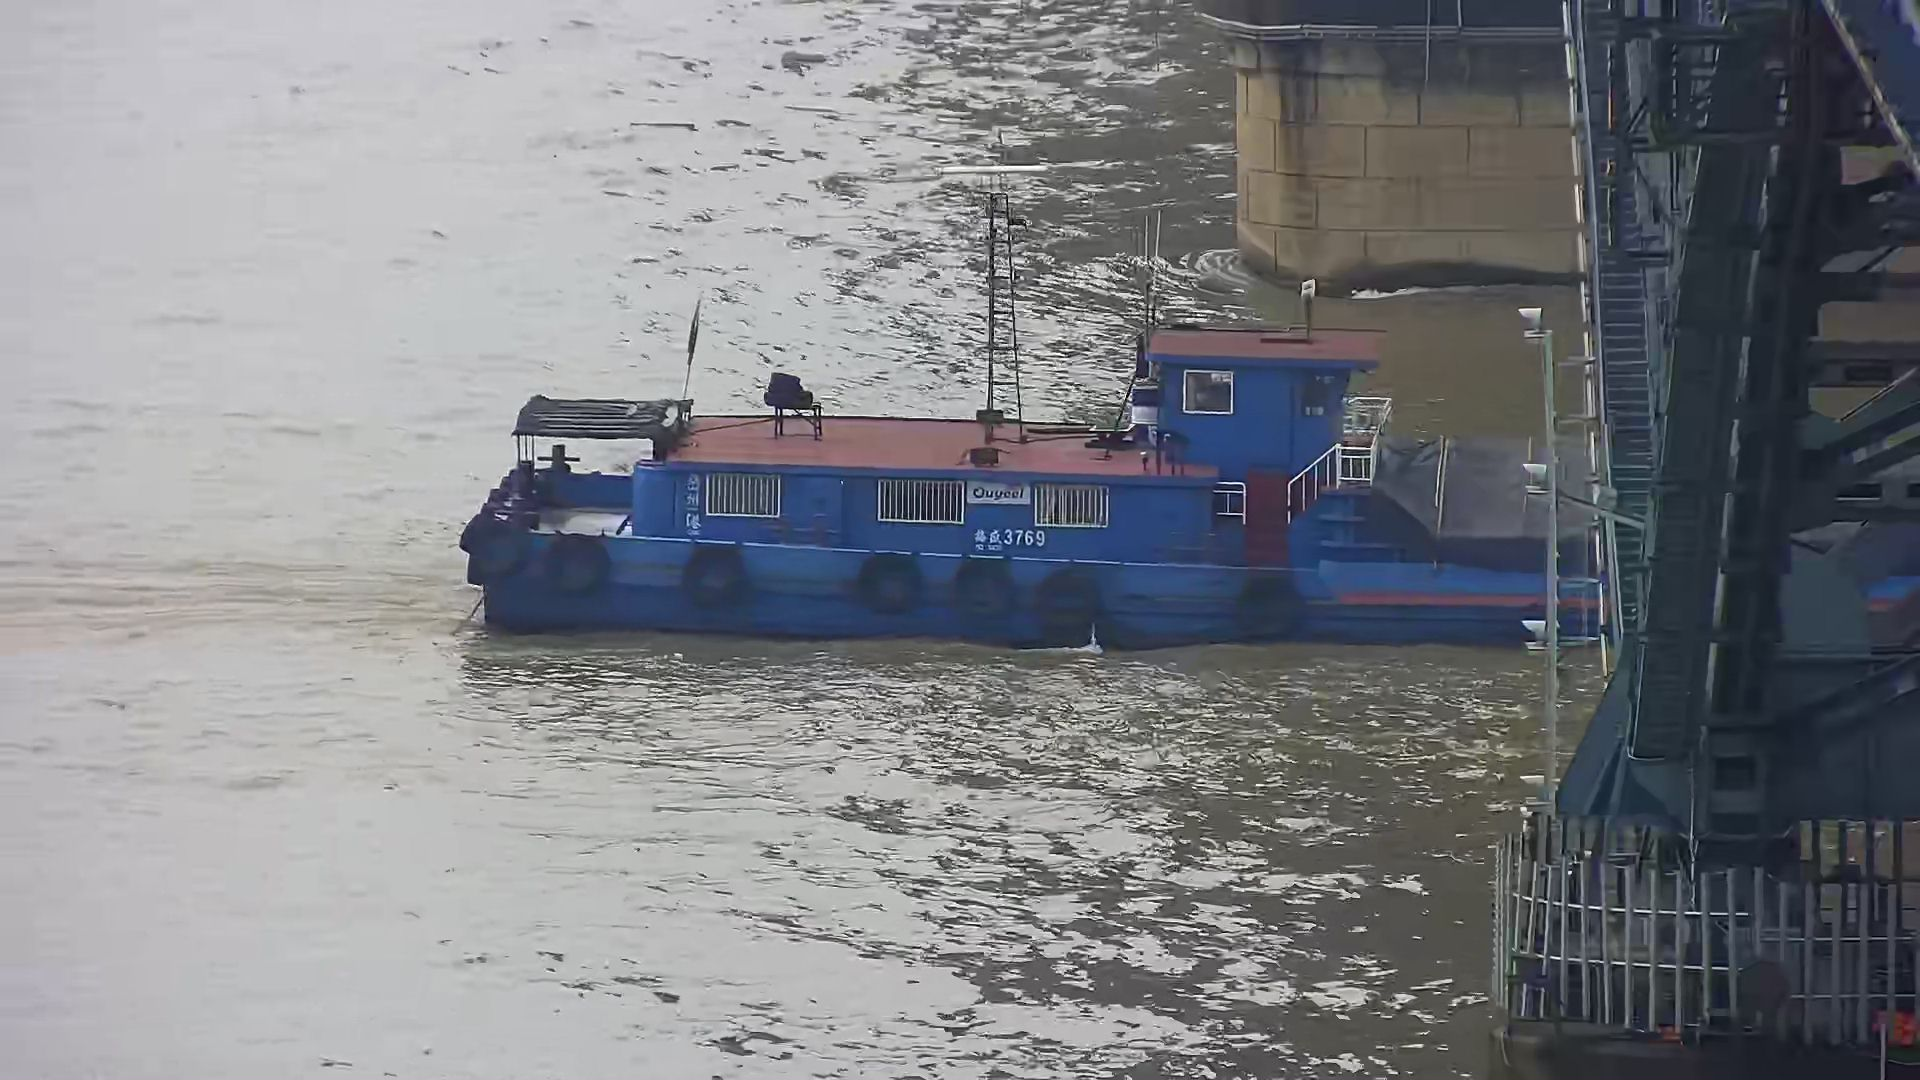bridge: (1205, 3, 1919, 1080)
ship: (458, 326, 1604, 644)
